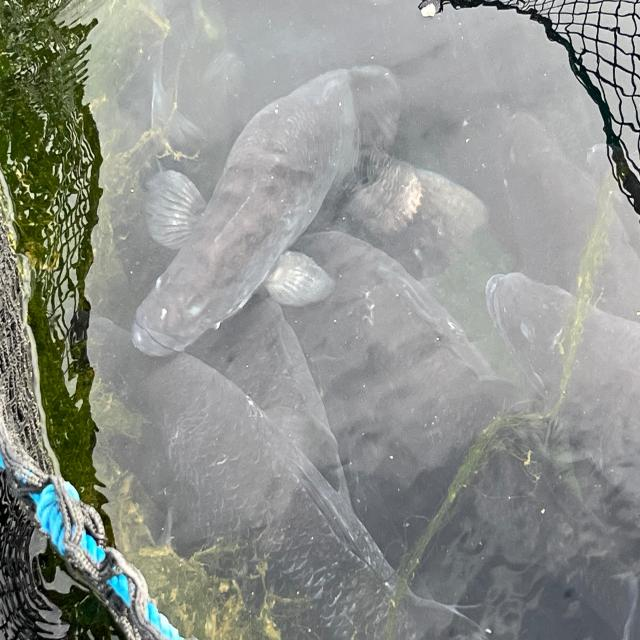ikan: (120, 103, 330, 366), (458, 237, 610, 400)
